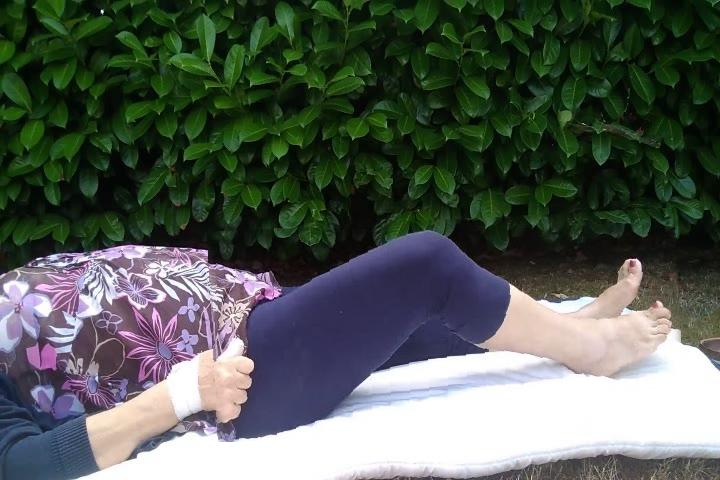lower_body: (211, 214, 683, 437)
